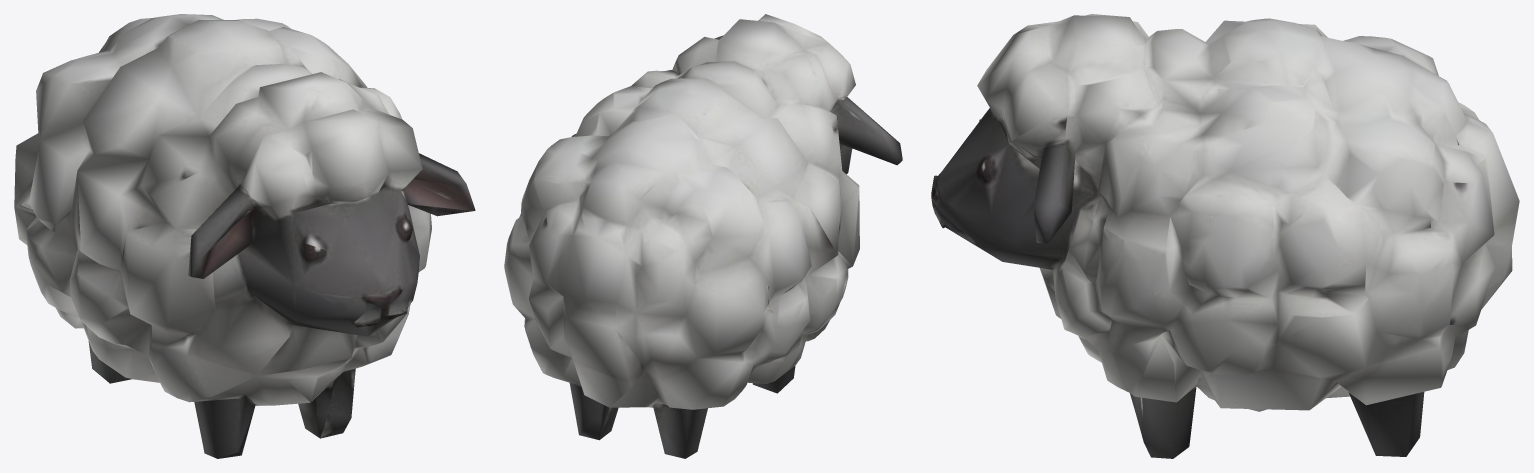
File: sheep.glb
3 views of the same model, side by side, from view 1: azimuth 30°, elevation 25°; view 2: azimuth 150°, elevation 25°; view 3: azimuth 270°, elevation 25° (orthographic). The views are drawn at different scales.
Visible parts, largest first — view 1: node_0; view 2: node_0; view 3: node_0.
Part boxes in pixels (bbox=[...]): node_0: bbox=[14, 14, 475, 458]; node_0: bbox=[504, 14, 902, 458]; node_0: bbox=[931, 14, 1519, 458].
Bounding box in the file's own units: 0.779 × 0.8944 × 1.17.
Materials: 1 (1 with a texture image).
